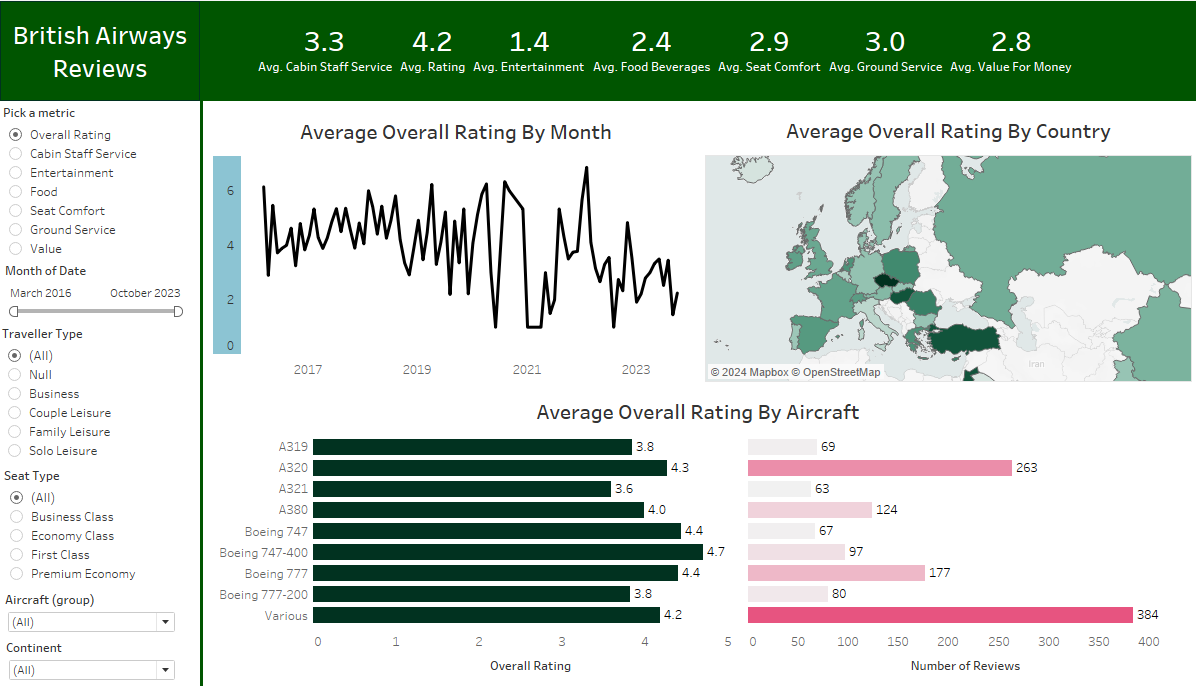

Layout of this report page (visuals, bound fields, positions):
{"tool":"tableau","page":{"name":"Dashboard 1","canvas":[1200,700],"ordinal":0},"visuals":[{"type":"text","box":[0,0,200,100]},{"type":"worksheet","title":"Summary","mark":"Automatic","box":[200,0,996,100]},{"type":"parameter","param":"[Parameters].[Parameter 1]","box":[3,103,184,157]},{"type":"worksheet","title":"Map","mark":"Automatic","box":[705,111,487,270]},{"type":"worksheet","title":"Month","mark":"Automatic","rows":["Calculation_348747519793070080"],"cols":["date"],"box":[213,112,486,270]},{"type":"filter","title":"Map","param":"[federated.13n226912i0top13tftri1ymufrf].[tmn:date:qk]","box":[5,261,182,61]},{"type":"filter","title":"Map","param":"[federated.13n226912i0top13tftri1ymufrf].[none:traveller_type:nk]","box":[2,324,184,138]},{"type":"worksheet","title":"Aircraft","mark":"Automatic","cols":["Calculation_348747519793070080","ba_reviews.csv_58E2D1EEAEE547A994C489A26F1DDFFB"],"box":[213,392,970,288]},{"type":"filter","title":"Map","param":"[federated.13n226912i0top13tftri1ymufrf].[none:seat_type:nk]","box":[4,466,179,119]},{"type":"filter","title":"Map","param":"[federated.13n226912i0top13tftri1ymufrf].[Aircraft (group)]","box":[5,590,173,44]},{"type":"filter","title":"Map","param":"[federated.13n226912i0top13tftri1ymufrf].[none:Continent:nk]","box":[6,638,172,44]}]}

Visuals, with their boxes in screenshot pixels (x1, y1, x2, y2), scaled from the page's 1200x700 canvas onto the 1196x686 screenshot:
text: 0 0 199 98
"Summary" worksheet: 199 0 1192 98
parameter: 3 101 186 255
"Map" worksheet: 703 109 1188 373
"Month" worksheet: 212 110 697 374
"Map" filter: 5 256 186 316
"Map" filter: 2 318 185 453
"Aircraft" worksheet: 212 384 1179 666
"Map" filter: 4 457 182 573
"Map" filter: 5 578 177 621
"Map" filter: 6 625 177 668
